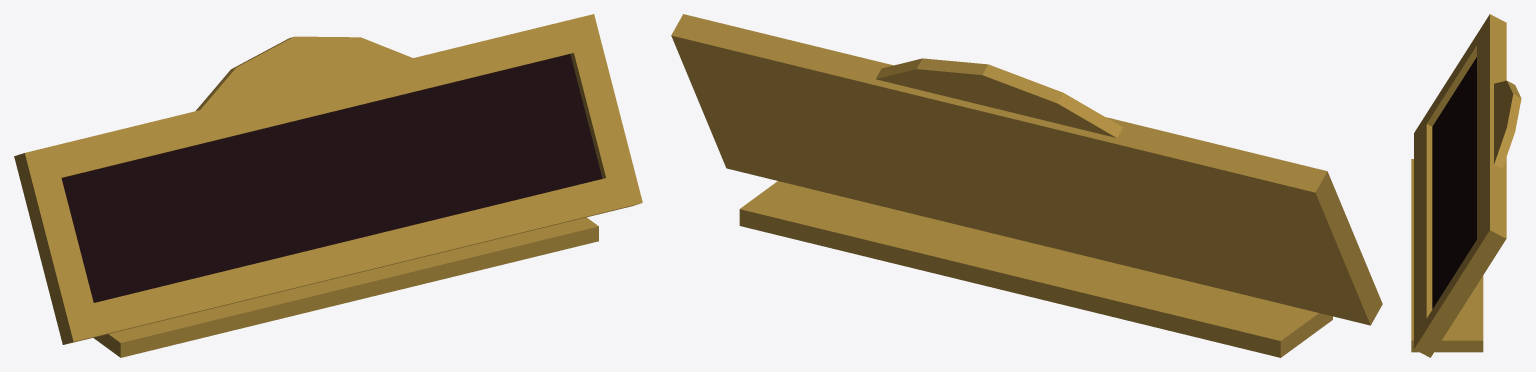
The model's file is goal_plaque.glb.
3 renders of one model, left to right at view 1: azimuth 30°, elevation 25°; view 2: azimuth 150°, elevation 25°; view 3: azimuth 270°, elevation 25°, orthographic. The views are drawn at different scales.
Parts seen in each view (by area): view 1: goal_plaque; view 2: goal_plaque; view 3: goal_plaque.
Boxes of the visible parts, x1,y1,x2,y2 form: goal_plaque: (14,14,642,357); goal_plaque: (671,14,1382,357); goal_plaque: (1411,14,1521,357).
Size of the model in its own units: 0.32 by 0.1156 by 0.0689.
